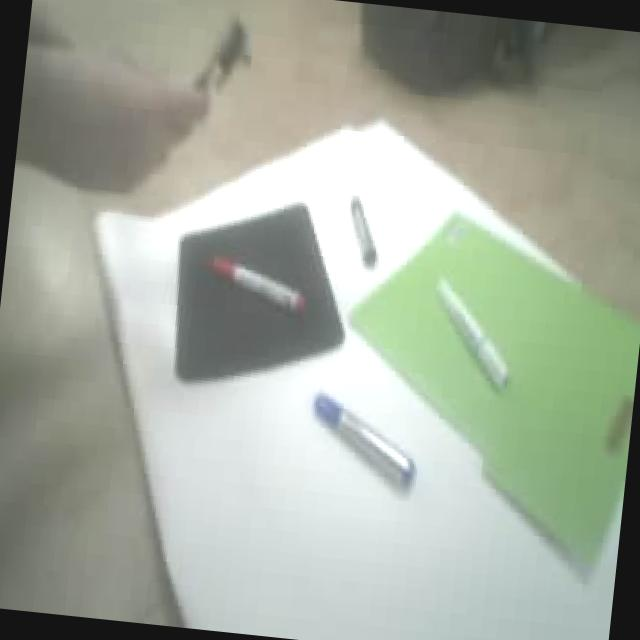board-marker: (314, 392, 414, 487), (438, 279, 509, 387), (212, 256, 306, 310), (351, 195, 378, 266)
